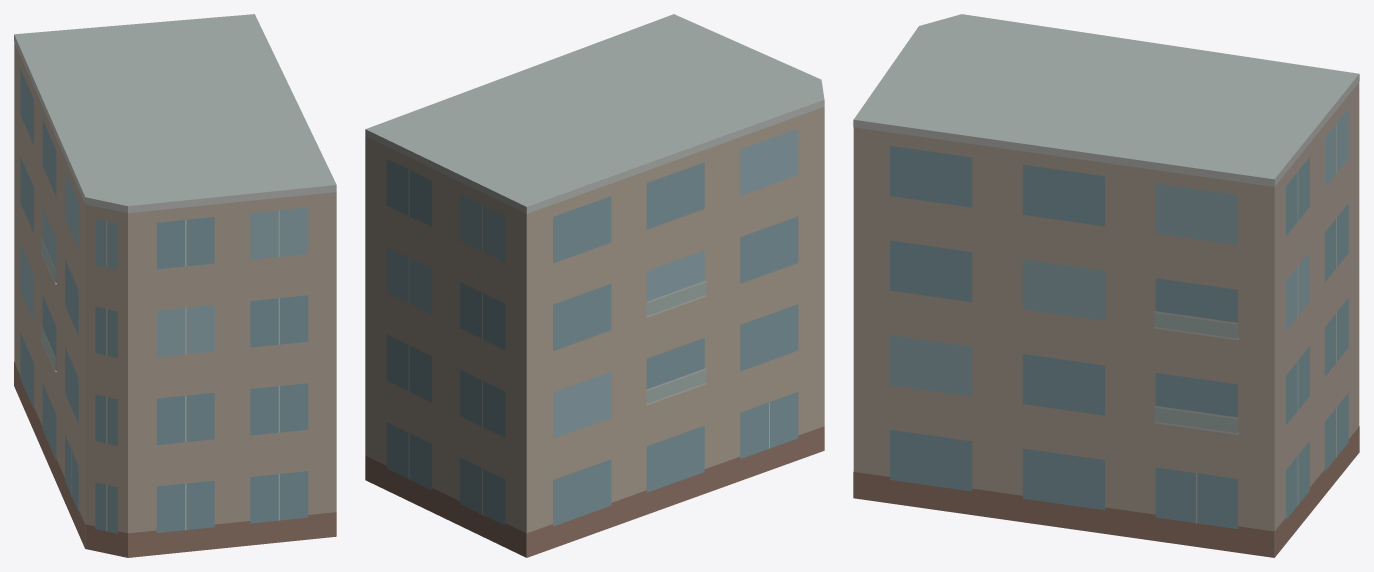
The model's file is survey-upis-32670495.glb.
3 views of the same model, side by side, from view 1: azimuth 30°, elevation 25°; view 2: azimuth 150°, elevation 25°; view 3: azimuth 270°, elevation 25° (orthographic). The views are drawn at different scales.
Parts seen in each view (by area): view 1: survey-upis-32670495.tmp; view 2: survey-upis-32670495.tmp; view 3: survey-upis-32670495.tmp.
Boxes of the visible parts, x1,y1,x2,y2 form: survey-upis-32670495.tmp: (14,14,336,557); survey-upis-32670495.tmp: (365,14,824,557); survey-upis-32670495.tmp: (853,14,1359,557).
Bounding box in the file's own units: 11.44 × 12.2 × 14.79.
